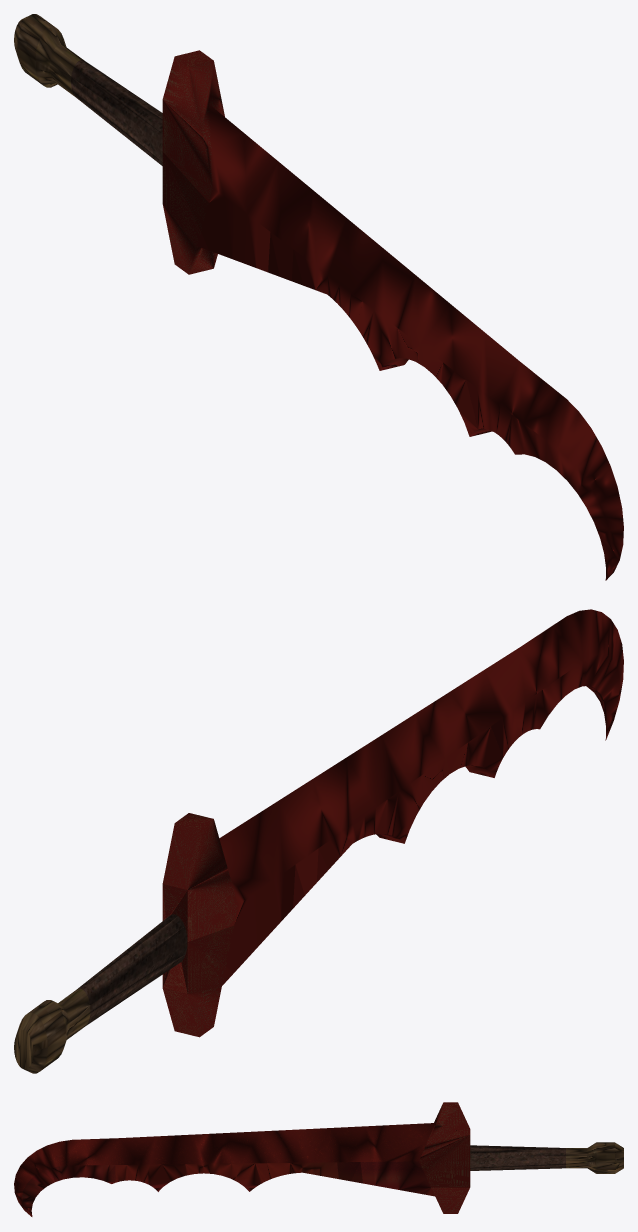
Rendered from model_align.obj.
The picture shows the model from 3 angles, top to bottom: view 1: azimuth 30°, elevation 25°; view 2: azimuth 150°, elevation 25°; view 3: azimuth 270°, elevation 25°; orthographic projection. The views are drawn at different scales.
Bounding box in the file's own units: 0.00634 × 0.0441 × 0.2168.
Materials: 5 (5 with a texture image).
